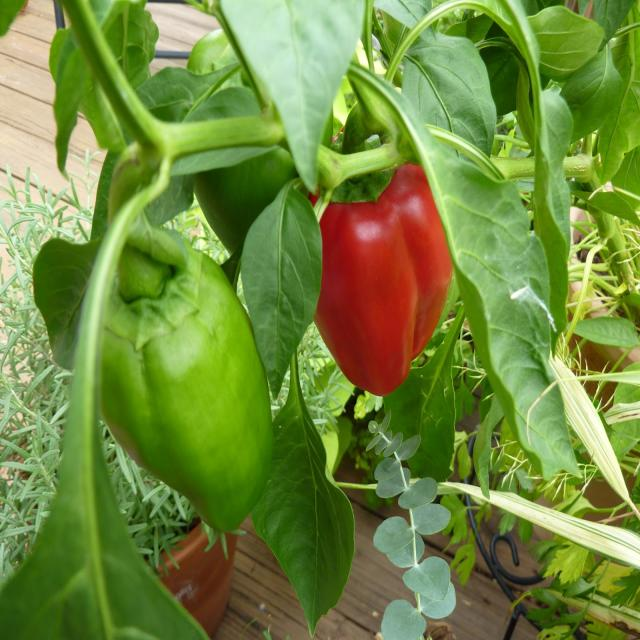Bell pepper: (54, 222, 294, 523), (284, 137, 471, 411)
